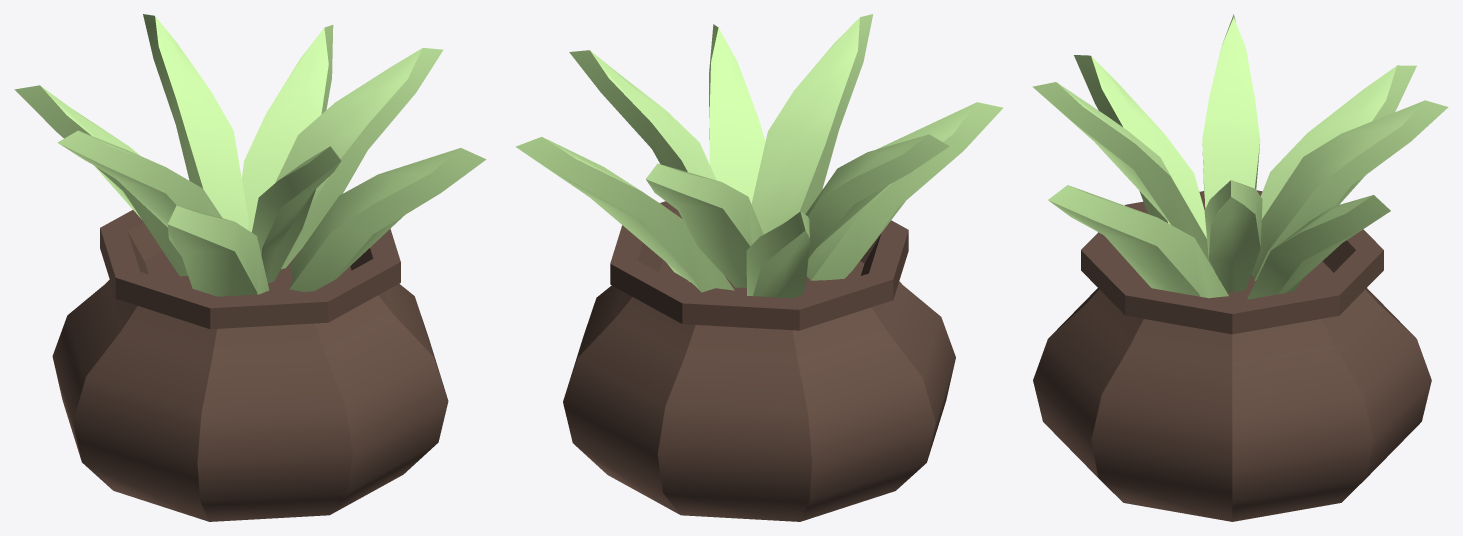
The model's file is Succulent1.fbx.
The picture shows the model from 3 angles, left to right: view 1: azimuth 30°, elevation 25°; view 2: azimuth 150°, elevation 25°; view 3: azimuth 270°, elevation 25°; orthographic projection. The views are drawn at different scales.
Parts seen in each view (by area): view 1: Sphere; view 2: Sphere; view 3: Sphere.
Part boxes in pixels (bbox=[...]): Sphere: bbox=[14, 14, 486, 521]; Sphere: bbox=[515, 14, 1003, 521]; Sphere: bbox=[1032, 14, 1448, 521].
Size of the model in its own units: 49.97 by 51.18 by 48.11.
